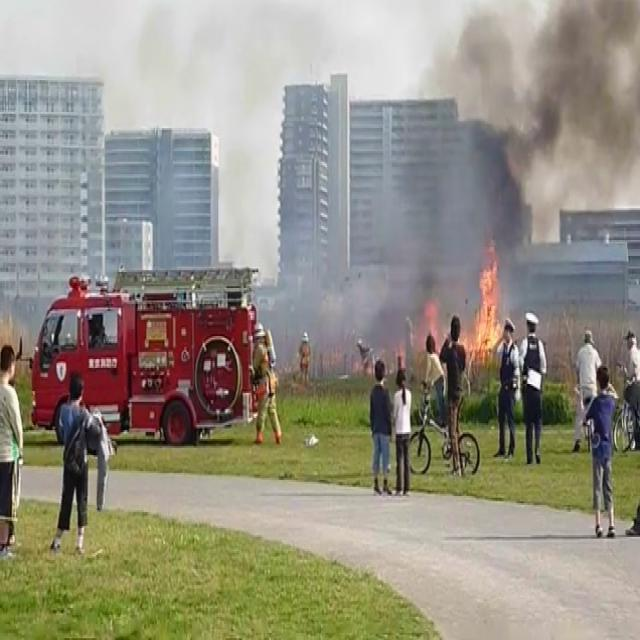Fire: (464, 255, 508, 358)
Smoke: (399, 0, 639, 300)
